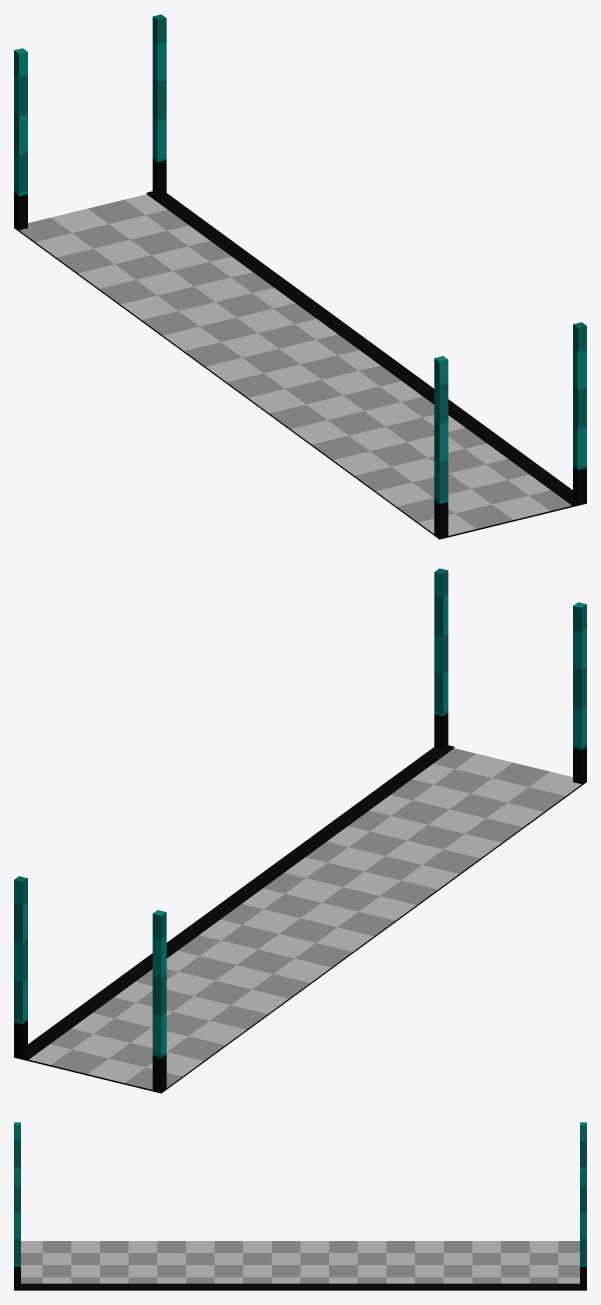
The model's file is end.glb.
3 views of the same model, one above another, from view 1: azimuth 30°, elevation 25°; view 2: azimuth 150°, elevation 25°; view 3: azimuth 270°, elevation 25° (orthographic). The views are drawn at different scales.
Visible parts, largest first — view 1: roof_flatEdge, columns_small (×2); view 2: roof_flatEdge, columns_small (×2); view 3: roof_flatEdge, columns_small (×2).
Boxes of the visible parts, x1=… form: roof_flatEdge: x1=14, y1=191, x2=586, y2=538; columns_small (×2): x1=14, y1=14, x2=586, y2=539; roof_flatEdge: x1=15, y1=745, x2=581, y2=1091; columns_small (×2): x1=14, y1=568, x2=586, y2=1093; roof_flatEdge: x1=14, y1=1241, x2=586, y2=1290; columns_small (×2): x1=14, y1=1122, x2=586, y2=1290.
Size of the model in its own units: 1 by 1.15 by 5.
Materials: 6 (3 with a texture image).
